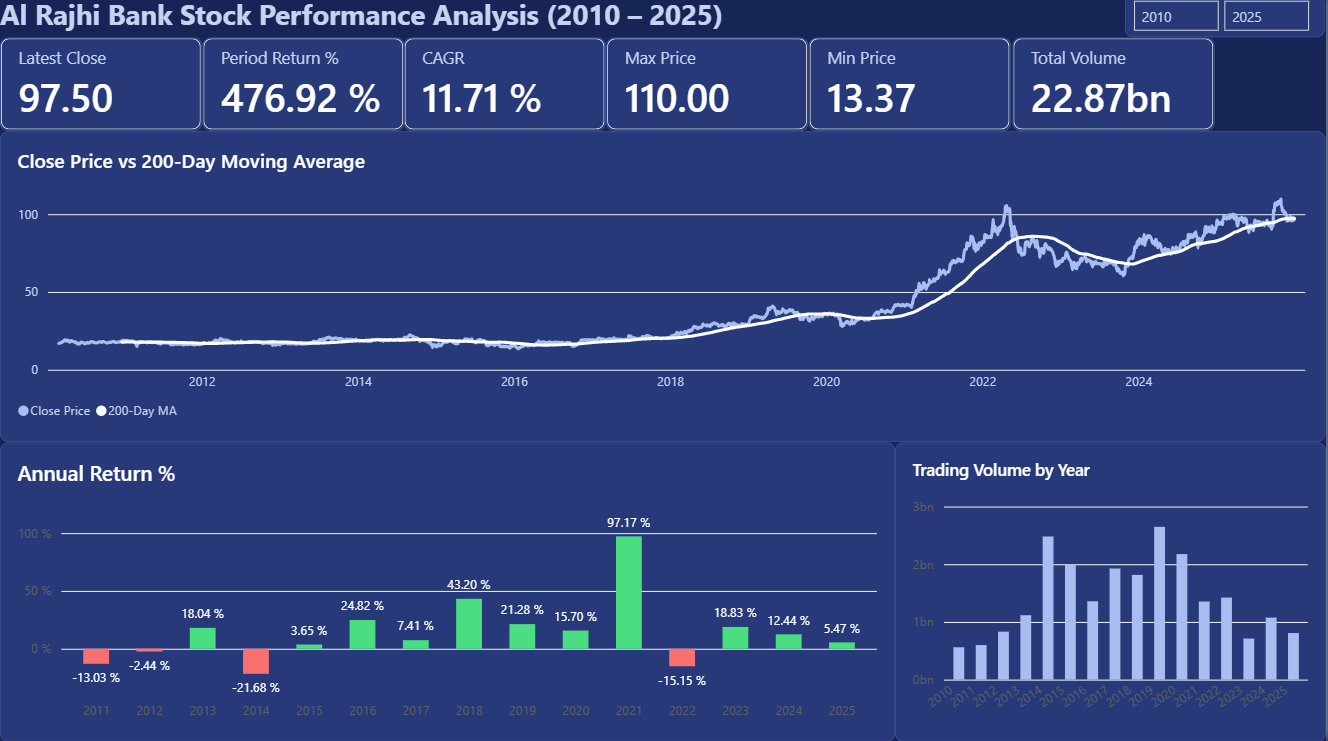

The page's visual inventory and layout, read from the dashboard file:
{"tool":"powerbi","page":{"name":"Page ١","canvas":[1280,720],"ordinal":0},"visuals":[{"type":"cardVisual","fields":{"Data":["Measures_AlRajhi.Latest Close"]},"box":[0,41.3,195,90],"z":0},{"type":"cardVisual","fields":{"Data":["Measures_AlRajhi.Period Return %"]},"box":[195.7,41.3,195,90],"z":1000},{"type":"cardVisual","fields":{"Data":["Measures_AlRajhi.CAGR"]},"box":[389.7,41.3,195,90],"z":2000},{"type":"lineChart","title":"Close Price vs 200-Day Moving Average","fields":{"Category":["Dim_Date.Date"],"Y":["Dim_Date.Avg Close Price","Measures_AlRajhi.MA 200 Days"]},"box":[0,131.8,1279.5,300],"z":3000},{"type":"slicer","fields":{"Values":["Dim_Date.Year"]},"box":[1086.4,0,193.2,40.9],"z":4000},{"type":"textbox","box":[0,0,703.9,41.3],"z":5000},{"type":"cardVisual","fields":{"Data":["Dim_Date.Max Price"]},"box":[585.4,41.3,195,90],"z":6000},{"type":"cardVisual","fields":{"Data":["Dim_Date.Min Price"]},"box":[781.1,41.3,195,90],"z":7000},{"type":"cardVisual","fields":{"Data":["Measures_AlRajhi.Total Volume"]},"box":[976.9,41.3,195,90],"z":8000},{"type":"clusteredColumnChart","title":"Annual Return % ","fields":{"Category":["Dim_Date.Year"],"Y":["Measures_AlRajhi.Annual Return %"]},"box":[0,431.8,863.6,288.6],"z":8001},{"type":"lineClusteredColumnComboChart","title":"Trading Volume by Year","fields":{"Category":["Dim_Date.Year"],"Y":["Measures_AlRajhi.Total Volume"]},"box":[863.6,431.8,415.9,288.6],"z":8002}]}

Visuals, with their boxes in screenshot pixels (x1, y1, x2, y2), scaled from the page's 1280x720 canvas onto the 1328x741 screenshot:
cardVisual - Measures_AlRajhi.Latest Close: crop(0, 43, 202, 135)
cardVisual - Measures_AlRajhi.Period Return %: crop(203, 43, 405, 135)
cardVisual - Measures_AlRajhi.CAGR: crop(404, 43, 607, 135)
"Close Price vs 200-Day Moving Average" lineChart: crop(0, 136, 1327, 444)
slicer - Dim_Date.Year: crop(1127, 0, 1327, 42)
textbox: crop(0, 0, 730, 43)
cardVisual - Dim_Date.Max Price: crop(607, 43, 810, 135)
cardVisual - Dim_Date.Min Price: crop(810, 43, 1013, 135)
cardVisual - Measures_AlRajhi.Total Volume: crop(1014, 43, 1216, 135)
"Annual Return % " clusteredColumnChart: crop(0, 444, 896, 740)
"Trading Volume by Year" lineClusteredColumnComboChart: crop(896, 444, 1327, 740)
